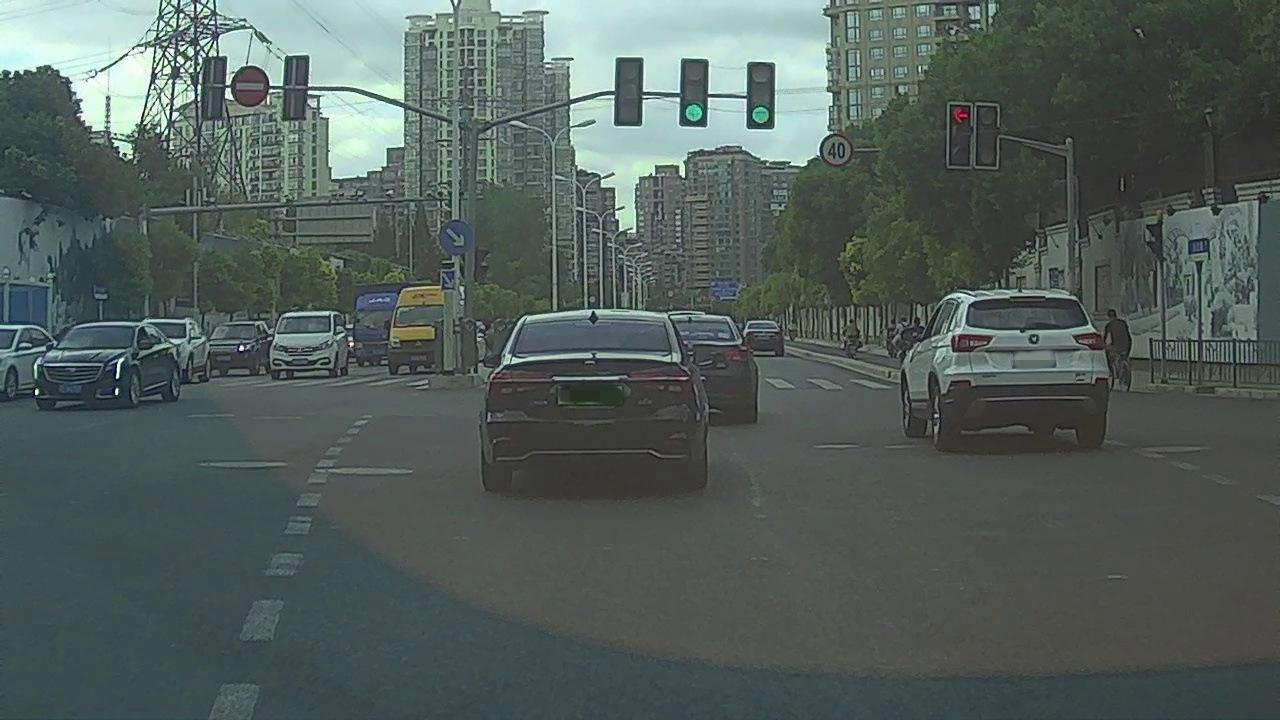traffic_light: (680, 60, 707, 126), (617, 59, 644, 124), (750, 64, 773, 129), (976, 103, 998, 167), (948, 103, 969, 166)
